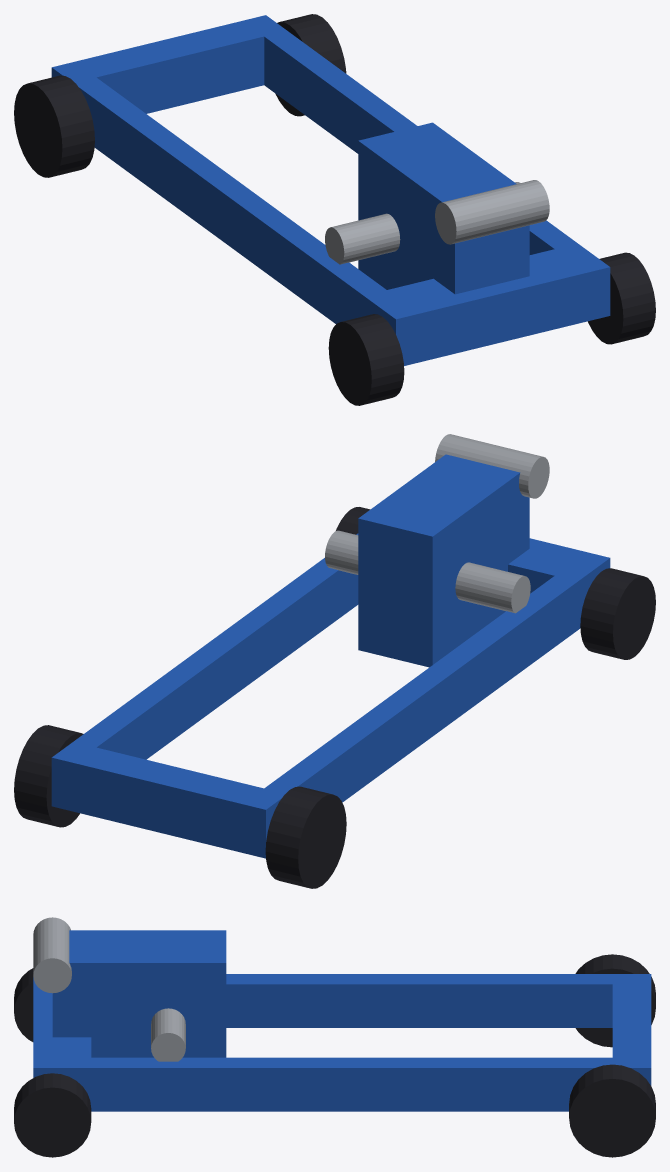
File: Gato_cuerpo.obj
3 renders of one model, top to bottom at view 1: azimuth 30°, elevation 25°; view 2: azimuth 150°, elevation 25°; view 3: azimuth 270°, elevation 25°, orthographic. The views are drawn at different scales.
Visible parts, largest first — view 1: Riel_-1, Carcasa_bomba, Travesano_trasero, Travesano_delantero, Riel_1, Rueda_delantera_-1, Rueda_trasera_-1, Perno_palanca, Rueda_trasera_1, Perno_brazo, Rueda_delantera_1; view 2: Carcasa_bomba, Riel_-1, Riel_1, Travesano_delantero, Rueda_delantera_-1, Rueda_trasera_-1, Perno_brazo, Rueda_delantera_1, Travesano_trasero, Perno_palanca; view 3: Riel_1, Riel_-1, Carcasa_bomba, Rueda_delantera_1, Rueda_trasera_1, Travesano_delantero, Travesano_trasero, Perno_palanca, Rueda_delantera_-1, Perno_brazo, Rueda_trasera_-1.
Boxes of the visible parts, x1,y1,x2,y2 form: Riel_-1: [51, 61, 407, 323]; Carcasa_bomba: [358, 122, 529, 294]; Travesano_trasero: [365, 249, 610, 365]; Travesano_delantero: [51, 15, 286, 113]; Riel_1: [243, 15, 598, 264]; Rueda_delantera_-1: [14, 75, 94, 177]; Rueda_trasera_-1: [328, 314, 404, 405]; Perno_palanca: [435, 180, 549, 244]; Rueda_trasera_1: [588, 252, 655, 344]; Perno_brazo: [325, 182, 520, 264]; Rueda_delantera_1: [275, 14, 346, 116]; Carcasa_bomba: [358, 454, 529, 667]; Riel_-1: [242, 560, 598, 858]; Riel_1: [51, 533, 358, 811]; Travesano_delantero: [51, 743, 284, 858]; Rueda_delantera_-1: [265, 786, 346, 888]; Rueda_trasera_-1: [580, 568, 655, 659]; Perno_brazo: [325, 530, 530, 613]; Rueda_delantera_1: [14, 725, 83, 827]; Travesano_trasero: [508, 538, 610, 629]; Perno_palanca: [435, 434, 549, 498]; Riel_1: [52, 1057, 651, 1111]; Riel_-1: [226, 974, 651, 1027]; Carcasa_bomba: [52, 930, 226, 1057]; Rueda_delantera_1: [569, 1064, 655, 1157]; Rueda_trasera_1: [14, 1073, 91, 1157]; Travesano_delantero: [612, 974, 651, 1082]; Travesano_trasero: [33, 977, 91, 1106]; Perno_palanca: [33, 917, 71, 993]; Rueda_delantera_-1: [575, 954, 655, 1047]; Perno_brazo: [151, 1008, 185, 1061]; Rueda_trasera_-1: [14, 968, 33, 1041].
Size of the model in its own units: 0.305 by 0.18 by 0.665.
